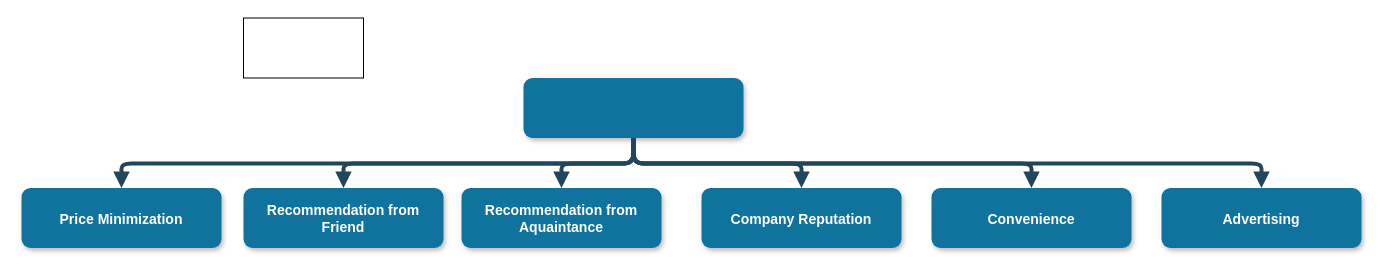
Image size: 1384x272. Some labels were removed from this diagram. The centre of each missing label's shape, as x and y in pixels:
All units are likert scale items, between 1 and 3: pixel 303 47
Customer Satisfaction: pixel 634 109
